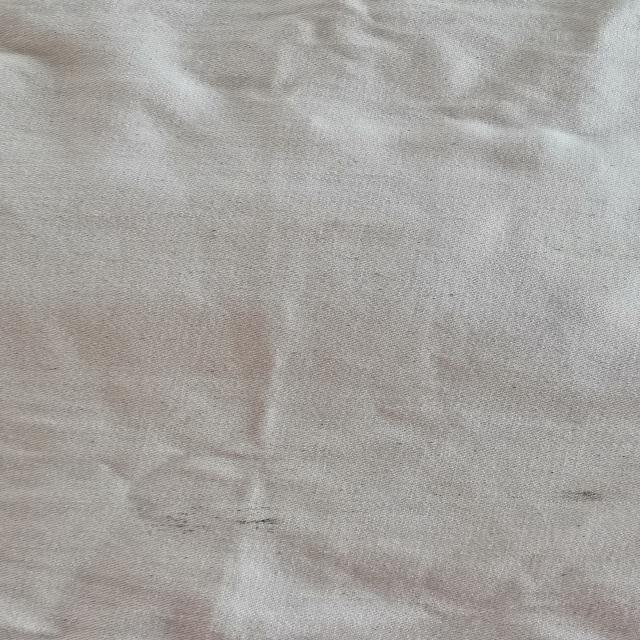taaaches: (134, 495, 284, 549), (550, 474, 620, 516)
